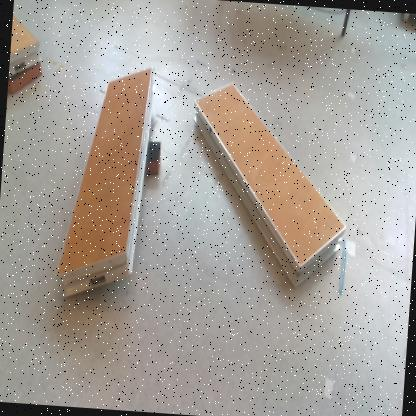Stairs: (196, 80, 348, 288), (60, 65, 159, 301), (10, 13, 43, 78)
